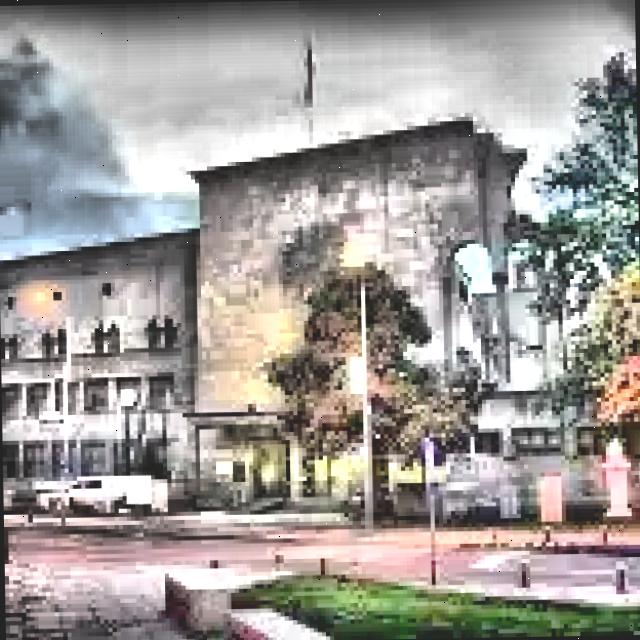old railway: (0, 101, 630, 534)
